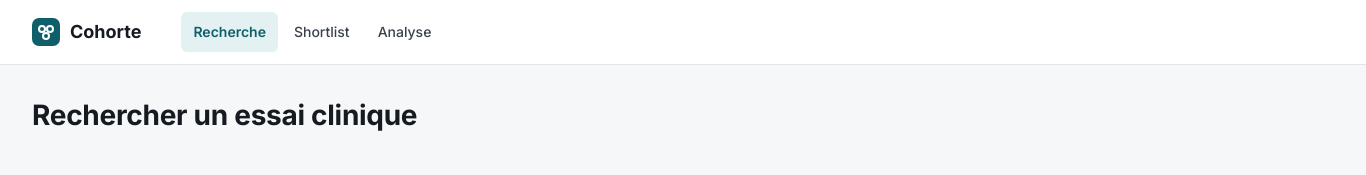
Test case: App shell › navigates with the header links
Step 1. Click the link "Analyse" → [404, 32], box [378,23,431,40]
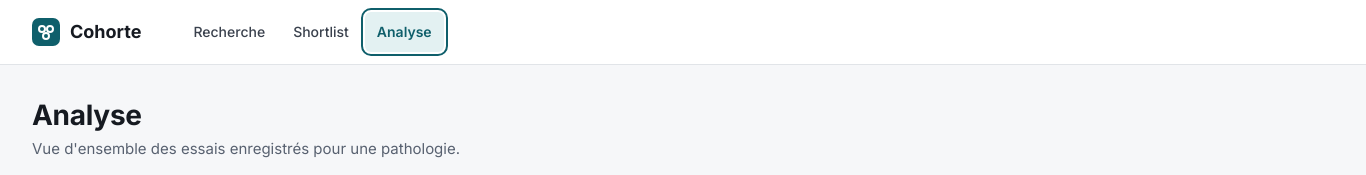
Now the heading "Analyse" is shown, box [32,98,142,132]
